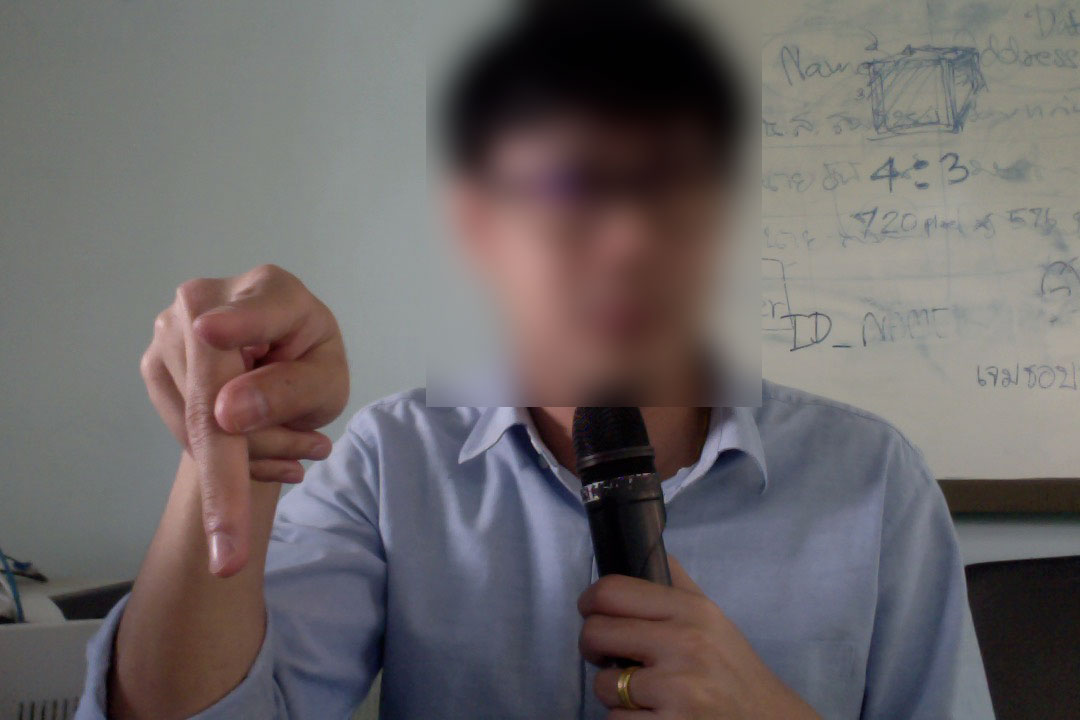por: (128, 253, 357, 584)
